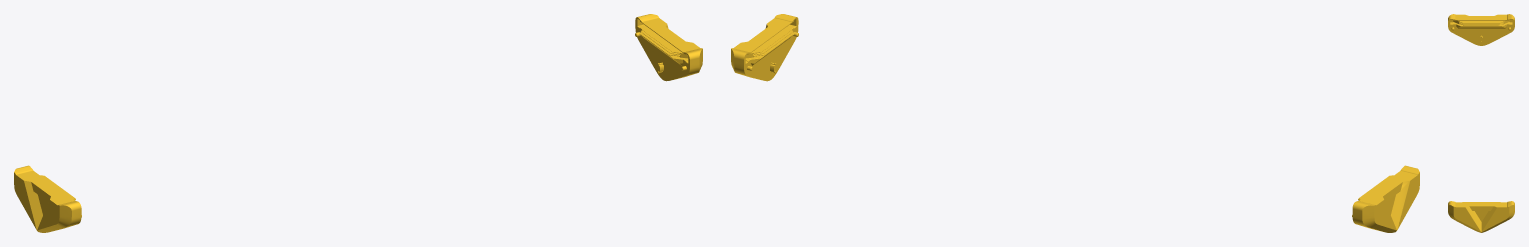
Rendered from K1-endcaps.glb.
The picture shows the model from 3 angles, left to right: view 1: azimuth 30°, elevation 25°; view 2: azimuth 150°, elevation 25°; view 3: azimuth 270°, elevation 25°; orthographic projection. The views are drawn at different scales.
Size of the model in its own units: 0.4716 by 0.031 by 0.0692.
